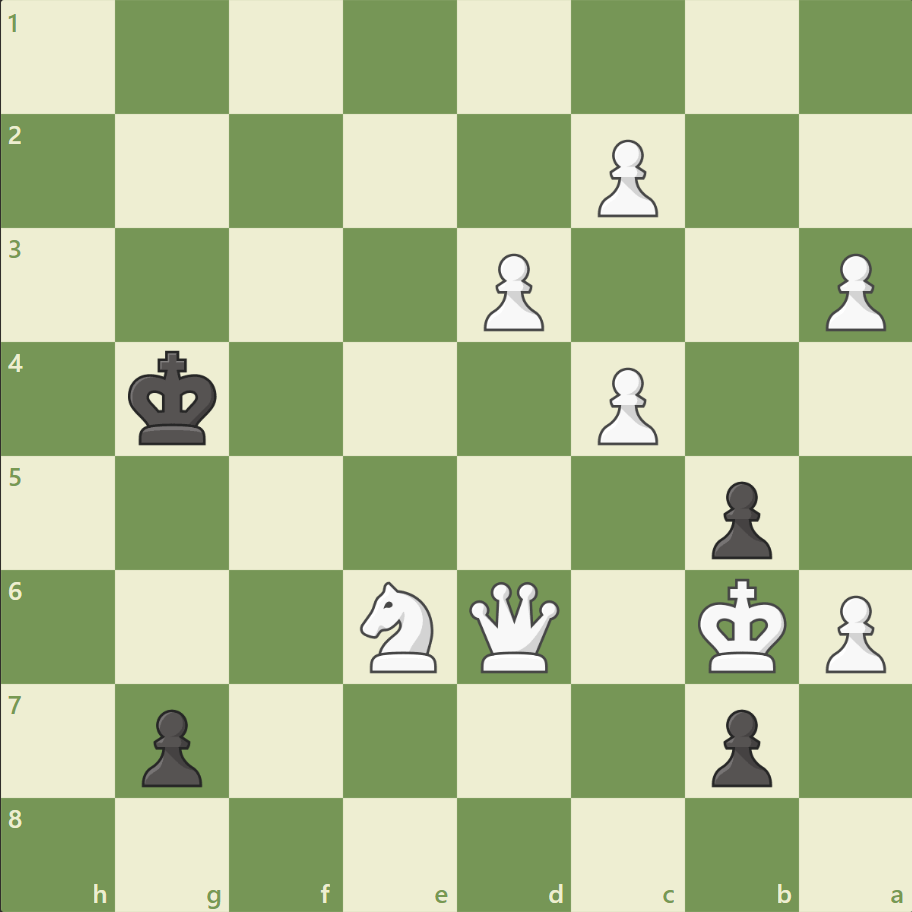K: (692, 571, 792, 679)
N: (351, 575, 449, 677)
P: (474, 246, 549, 337), (815, 586, 889, 677), (588, 359, 662, 450), (815, 246, 889, 337), (588, 132, 662, 223)
Q: (464, 576, 563, 676)
k: (124, 344, 224, 452)
p: (701, 700, 776, 791), (133, 700, 208, 791), (701, 473, 776, 564)
